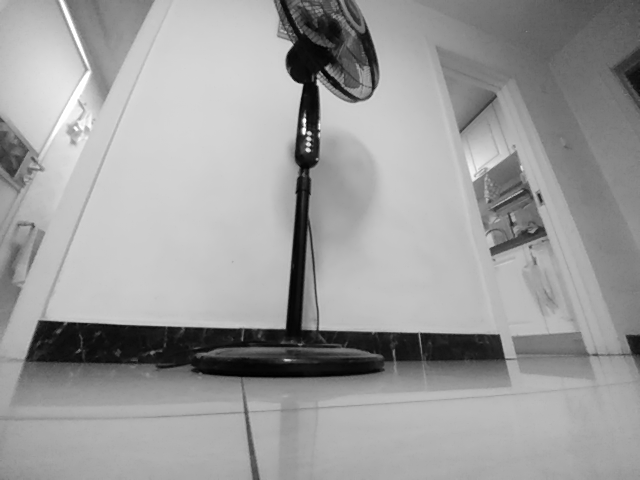bar stool: (194, 320, 387, 377)
